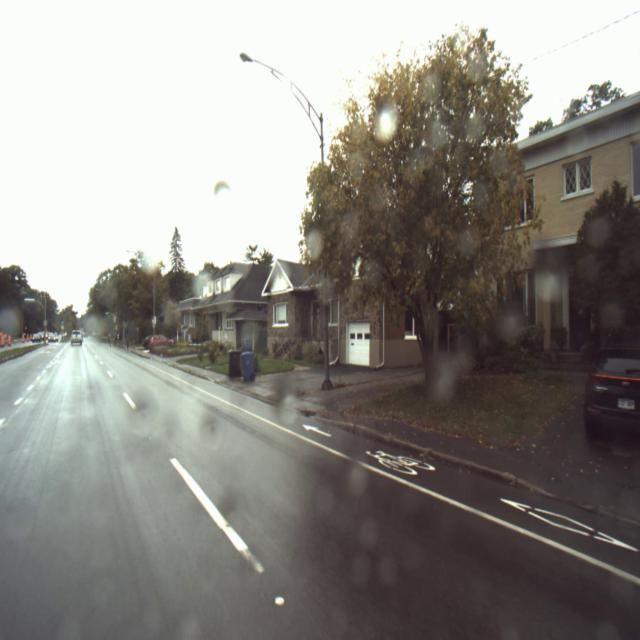car: (584, 342, 640, 445), (142, 335, 174, 351), (70, 328, 82, 345)
